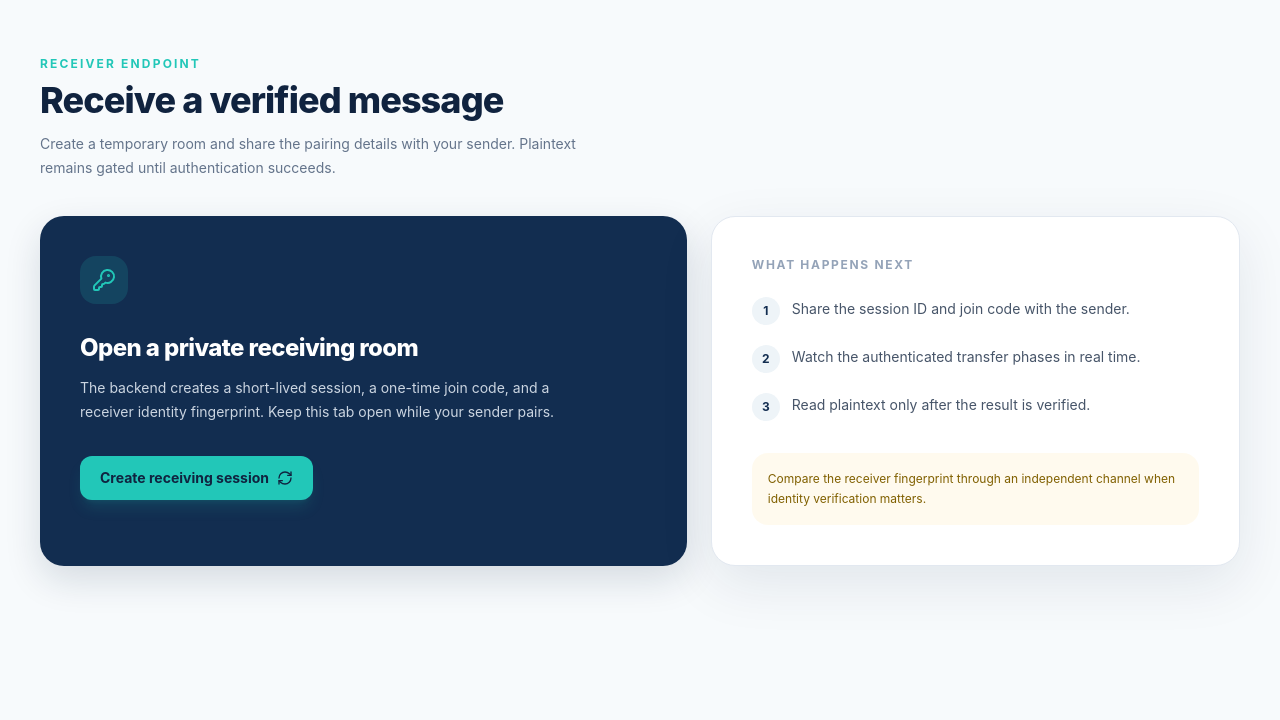
Test: ReceiveMessagePage › never renders plaintext when recovery is rejected
Click the button "Create receiving session".
click(197, 478)  # box [80, 456, 313, 500]
(page scrolled)
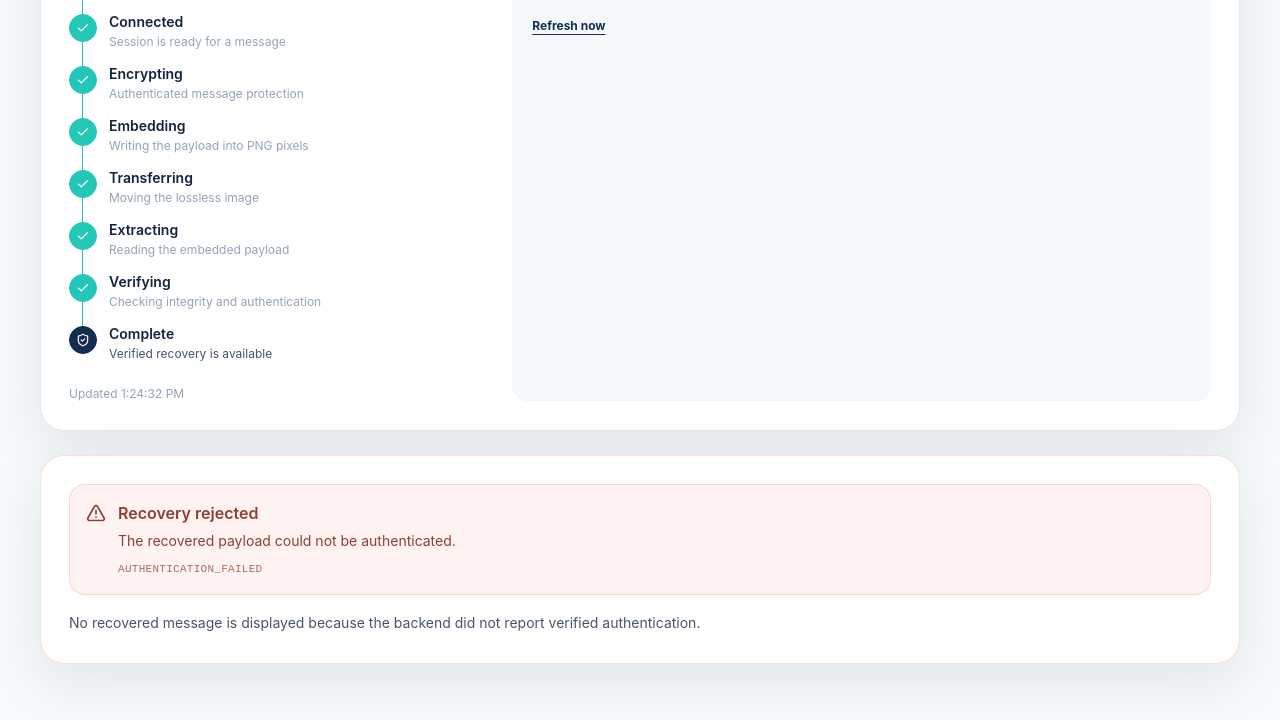
Expected: the text "Recovery rejected" is shown, [118, 501, 258, 525]
Expected: the text "No recovered message is displayed" is shown, [69, 614, 700, 630]
